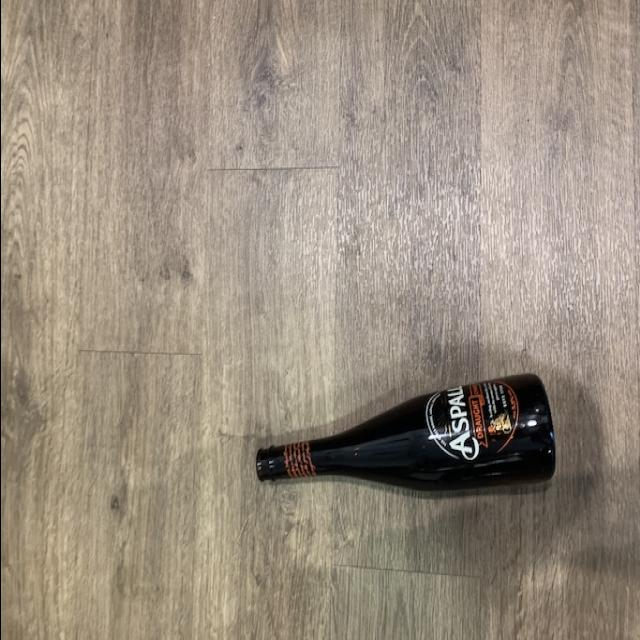litter: (247, 363, 556, 498)
